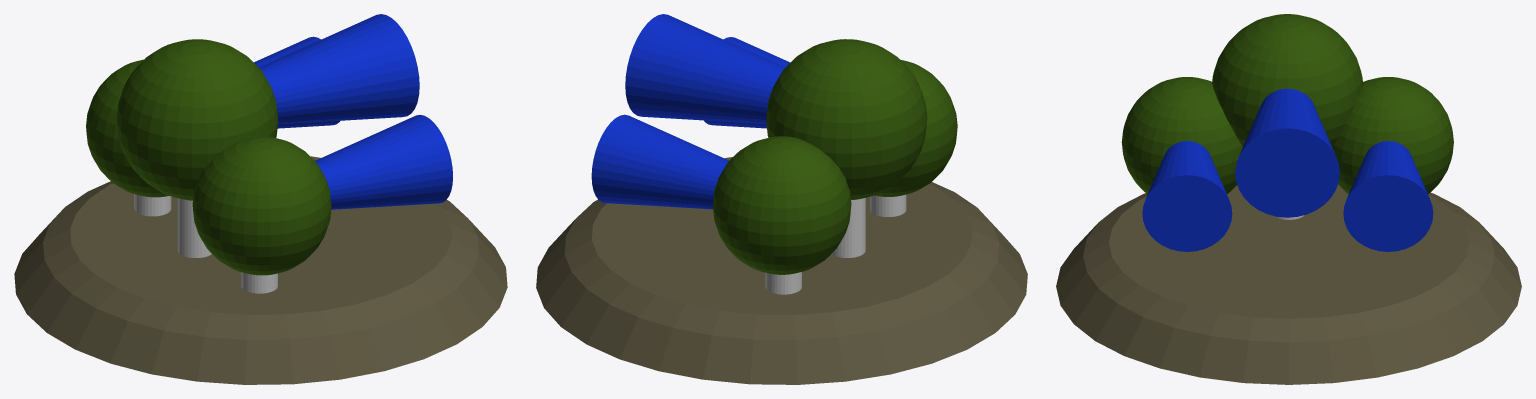
The model's file is glue.obj.
The picture shows the model from 3 angles, left to right: view 1: azimuth 30°, elevation 25°; view 2: azimuth 150°, elevation 25°; view 3: azimuth 270°, elevation 25°; orthographic projection. The views are drawn at different scales.
Visible parts, largest first — view 1: Base, Gun1, Gun2, Gun3; view 2: Base, Gun1, Gun3, Gun2; view 3: Base, Gun1, Gun3, Gun2.
Boxes of the visible parts, left/top/right/bottom form: Base: left=14, top=156, right=507, bottom=384; Gun1: left=116, top=14, right=419, bottom=257; Gun2: left=192, top=115, right=452, bottom=293; Gun3: left=86, top=36, right=340, bottom=216; Base: left=536, top=157, right=1027, bottom=384; Gun1: left=625, top=14, right=927, bottom=257; Gun3: left=591, top=114, right=851, bottom=294; Gun2: left=704, top=37, right=957, bottom=216; Base: left=1056, top=184, right=1521, bottom=384; Gun1: left=1212, top=14, right=1362, bottom=219; Gun3: left=1332, top=77, right=1453, bottom=251; Gun2: left=1121, top=77, right=1242, bottom=251.
Size of the model in its own units: 11.68 by 6.53 by 11.68.
